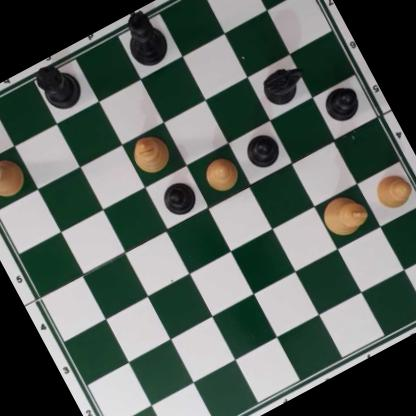black-king: (113, 5, 176, 75)
black-knight: (256, 59, 313, 111)
black-pawn: (317, 79, 365, 127), (156, 175, 202, 221), (239, 128, 284, 174)
black-rook: (30, 57, 87, 118)
white-bishop: (125, 126, 176, 179)
white-king: (316, 188, 372, 243)
white-pawn: (368, 167, 416, 216), (198, 153, 242, 196)
white-rook: (0, 148, 32, 208)
